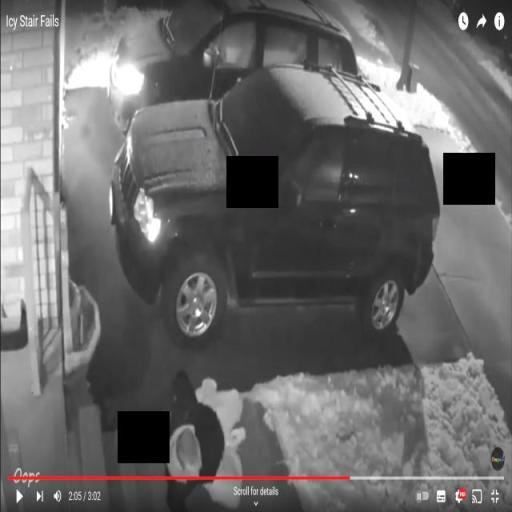Fall: (163, 366, 250, 512)
